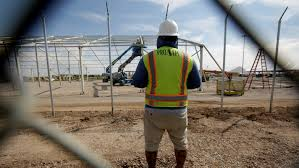hard hat: (156, 19, 180, 35)
high-vis: (142, 45, 194, 107)
